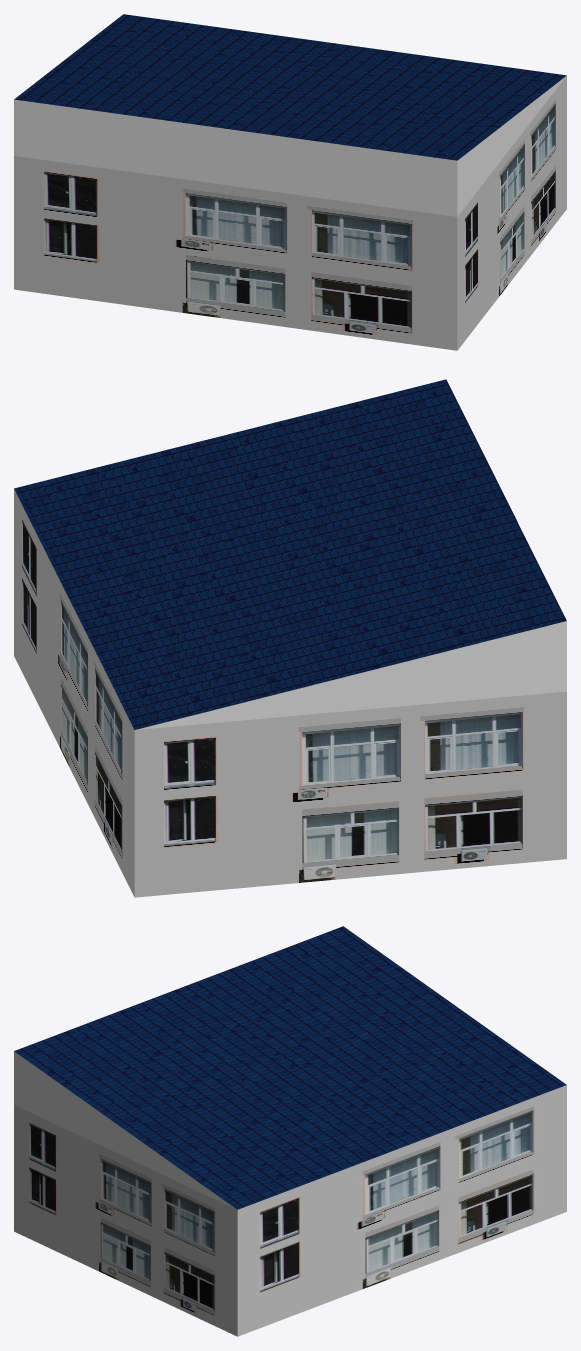
3 views of the same model, one above another, from view 1: azimuth 30°, elevation 25°; view 2: azimuth 150°, elevation 25°; view 3: azimuth 270°, elevation 25° (orthographic). The views are drawn at different scales.
Parts seen in each view (by area): view 1: CityEngineMaterial_9_m, CityEngineMaterial_6_m, CityEngineMaterial_3_m; view 2: CityEngineMaterial_6_m, CityEngineMaterial_9_m, CityEngineMaterial_3_m; view 3: CityEngineMaterial_6_m, CityEngineMaterial_9_m, CityEngineMaterial_3_m.
Part boxes in pixels (x1,y1,x2,y2): CityEngineMaterial_9_m: (14, 76, 566, 350); CityEngineMaterial_6_m: (14, 14, 566, 160); CityEngineMaterial_3_m: (14, 76, 565, 216); CityEngineMaterial_6_m: (14, 379, 566, 729); CityEngineMaterial_9_m: (14, 489, 566, 897); CityEngineMaterial_3_m: (136, 621, 566, 729); CityEngineMaterial_6_m: (14, 926, 566, 1209); CityEngineMaterial_9_m: (14, 1085, 566, 1336); CityEngineMaterial_3_m: (14, 1051, 236, 1209).
Bounding box in the file's own units: 36.96 × 13.5 × 37.52.
